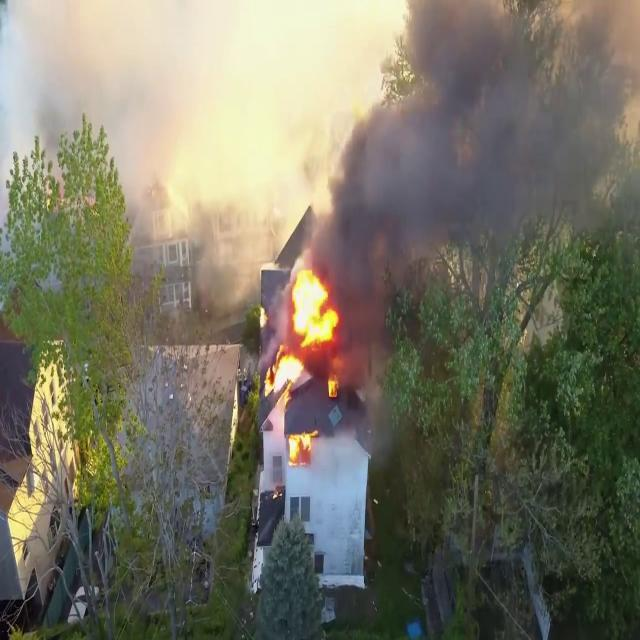Fire: (258, 263, 348, 404)
Smoke: (316, 0, 625, 300)
